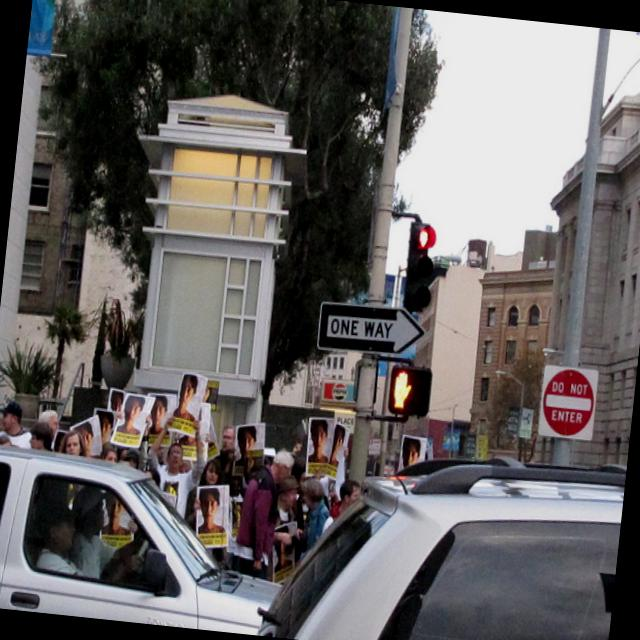Vehicle: (256, 427, 626, 640), (0, 441, 294, 637)
